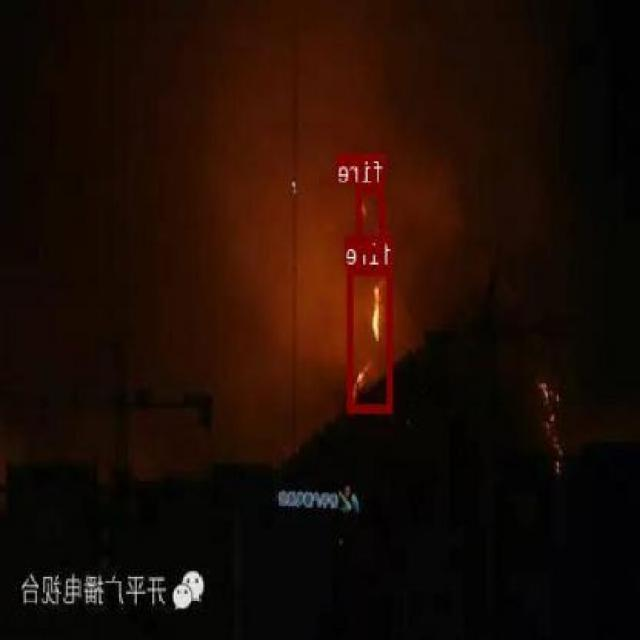Fire: (348, 266, 394, 412), (358, 182, 386, 253)
